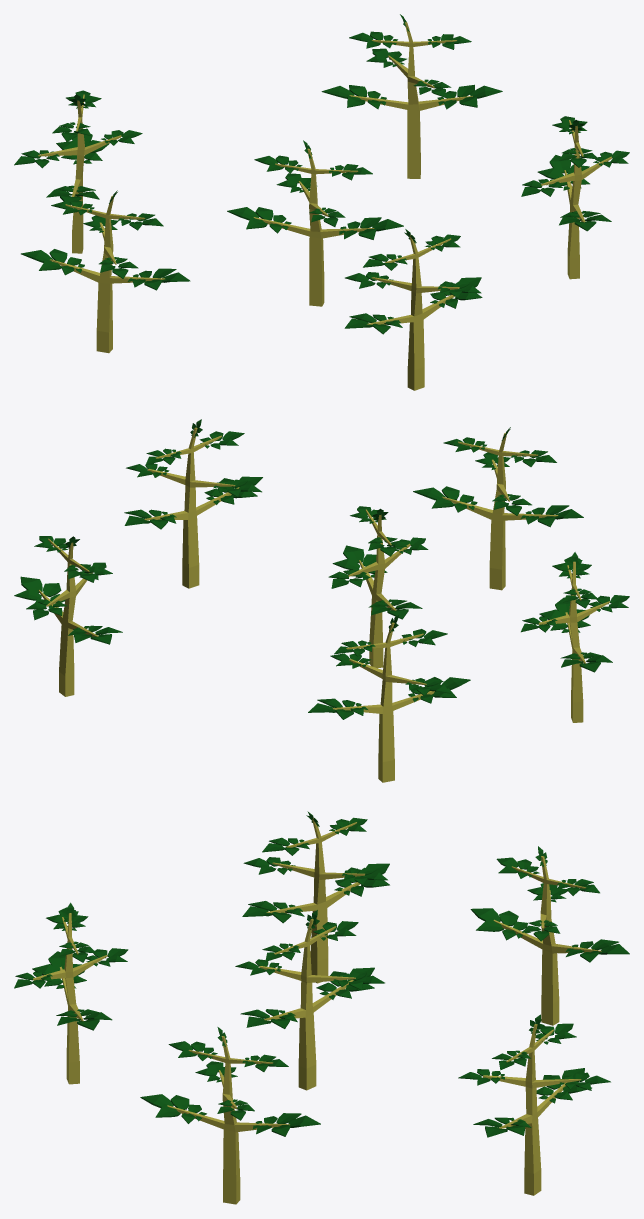
File: Potato2.fbx
3 renders of one model, top to bottom at view 1: azimuth 30°, elevation 25°; view 2: azimuth 150°, elevation 25°; view 3: azimuth 270°, elevation 25°, orthographic. The views are drawn at different scales.
Visible parts, largest first — view 1: 2; view 2: 2; view 3: 2.
Boxes of the visible parts, x1,y1,x2,y2 form: 2: [14, 14, 629, 390]; 2: [14, 419, 629, 782]; 2: [14, 811, 629, 1204].
Size of the model in its own units: 75.88 by 21.84 by 70.71.
